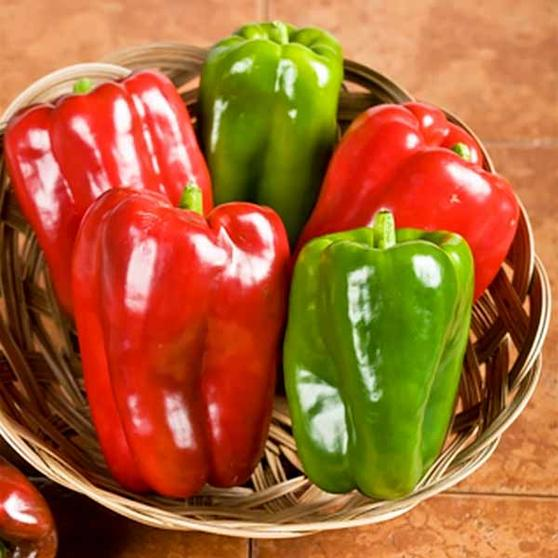pepper: (71, 193, 295, 502)
